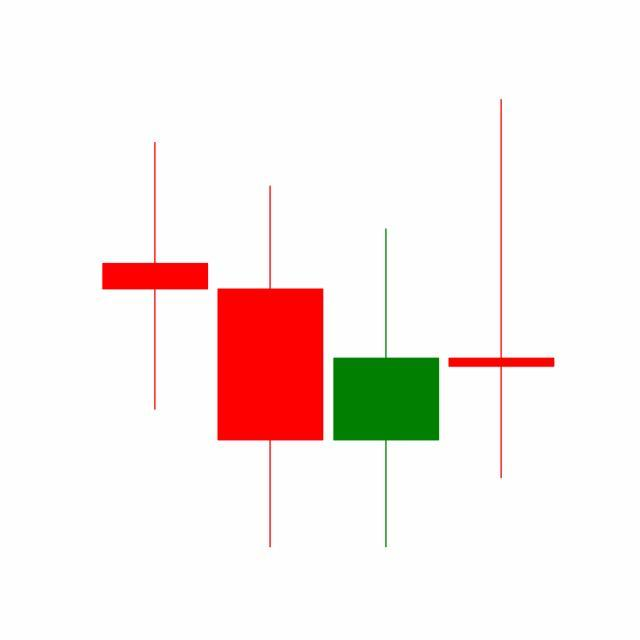Spinning Top: (444, 96, 560, 484)
